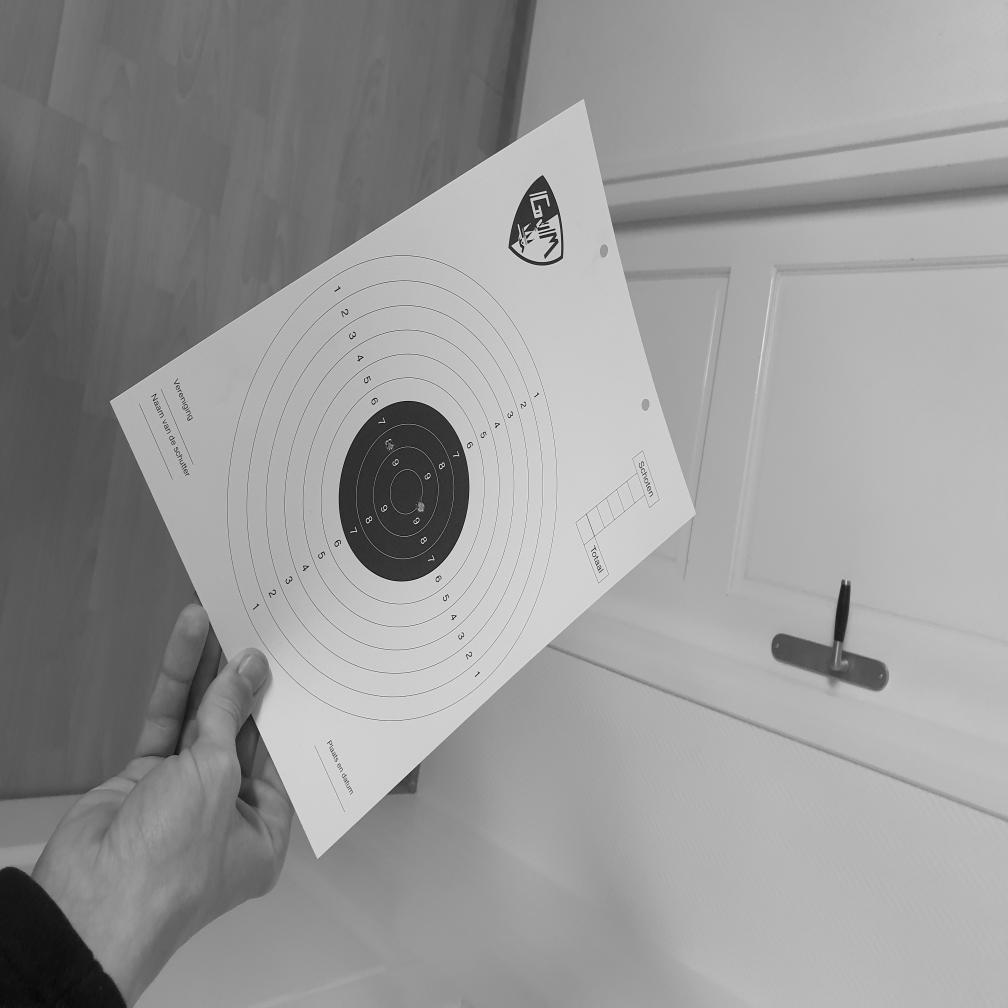10: (415, 498, 426, 513)
9: (385, 438, 398, 454)
Target: (224, 252, 562, 725)
black_contour: (339, 402, 471, 582)
